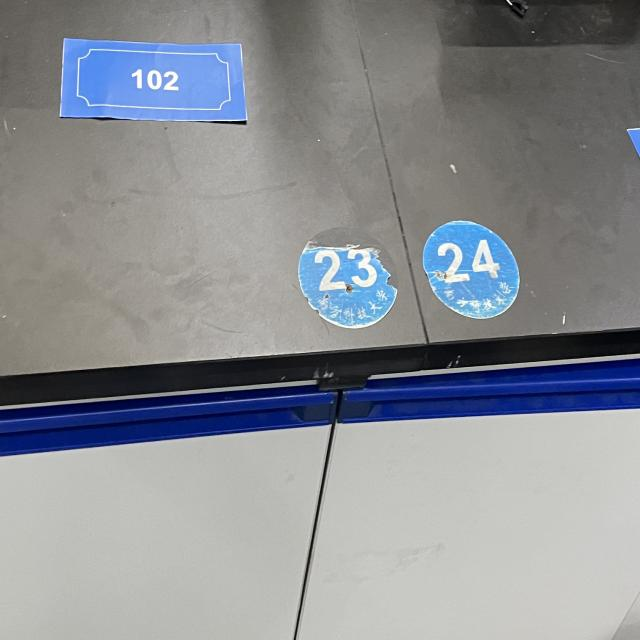Card: (50, 15, 254, 144)
